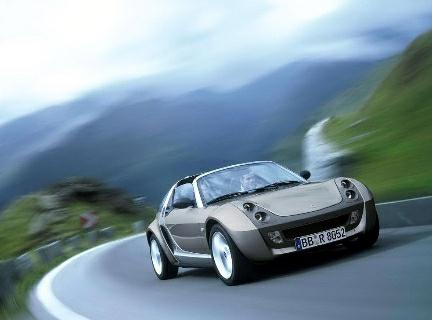smart-roadster: (142, 163, 378, 281)
